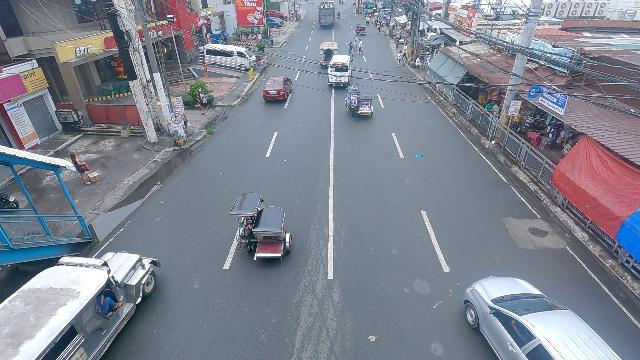car: (462, 275, 631, 360), (262, 76, 293, 102)
jeepney: (0, 252, 162, 360), (319, 41, 339, 66)
motorcycle: (337, 11, 341, 18)
truck: (317, 1, 335, 28)
van: (327, 54, 352, 86)
